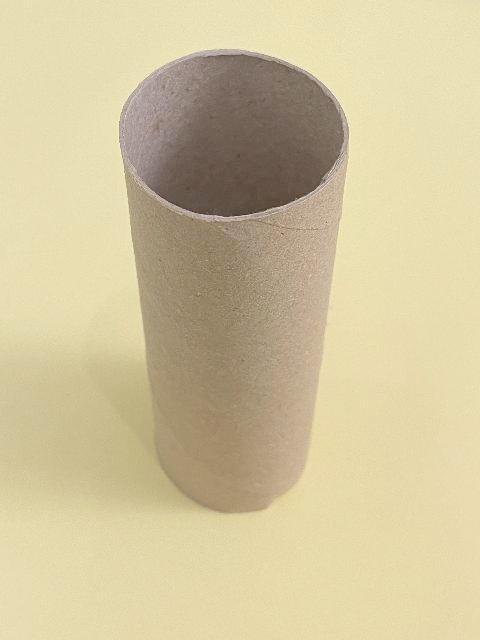tissueroll: (118, 48, 350, 514)
